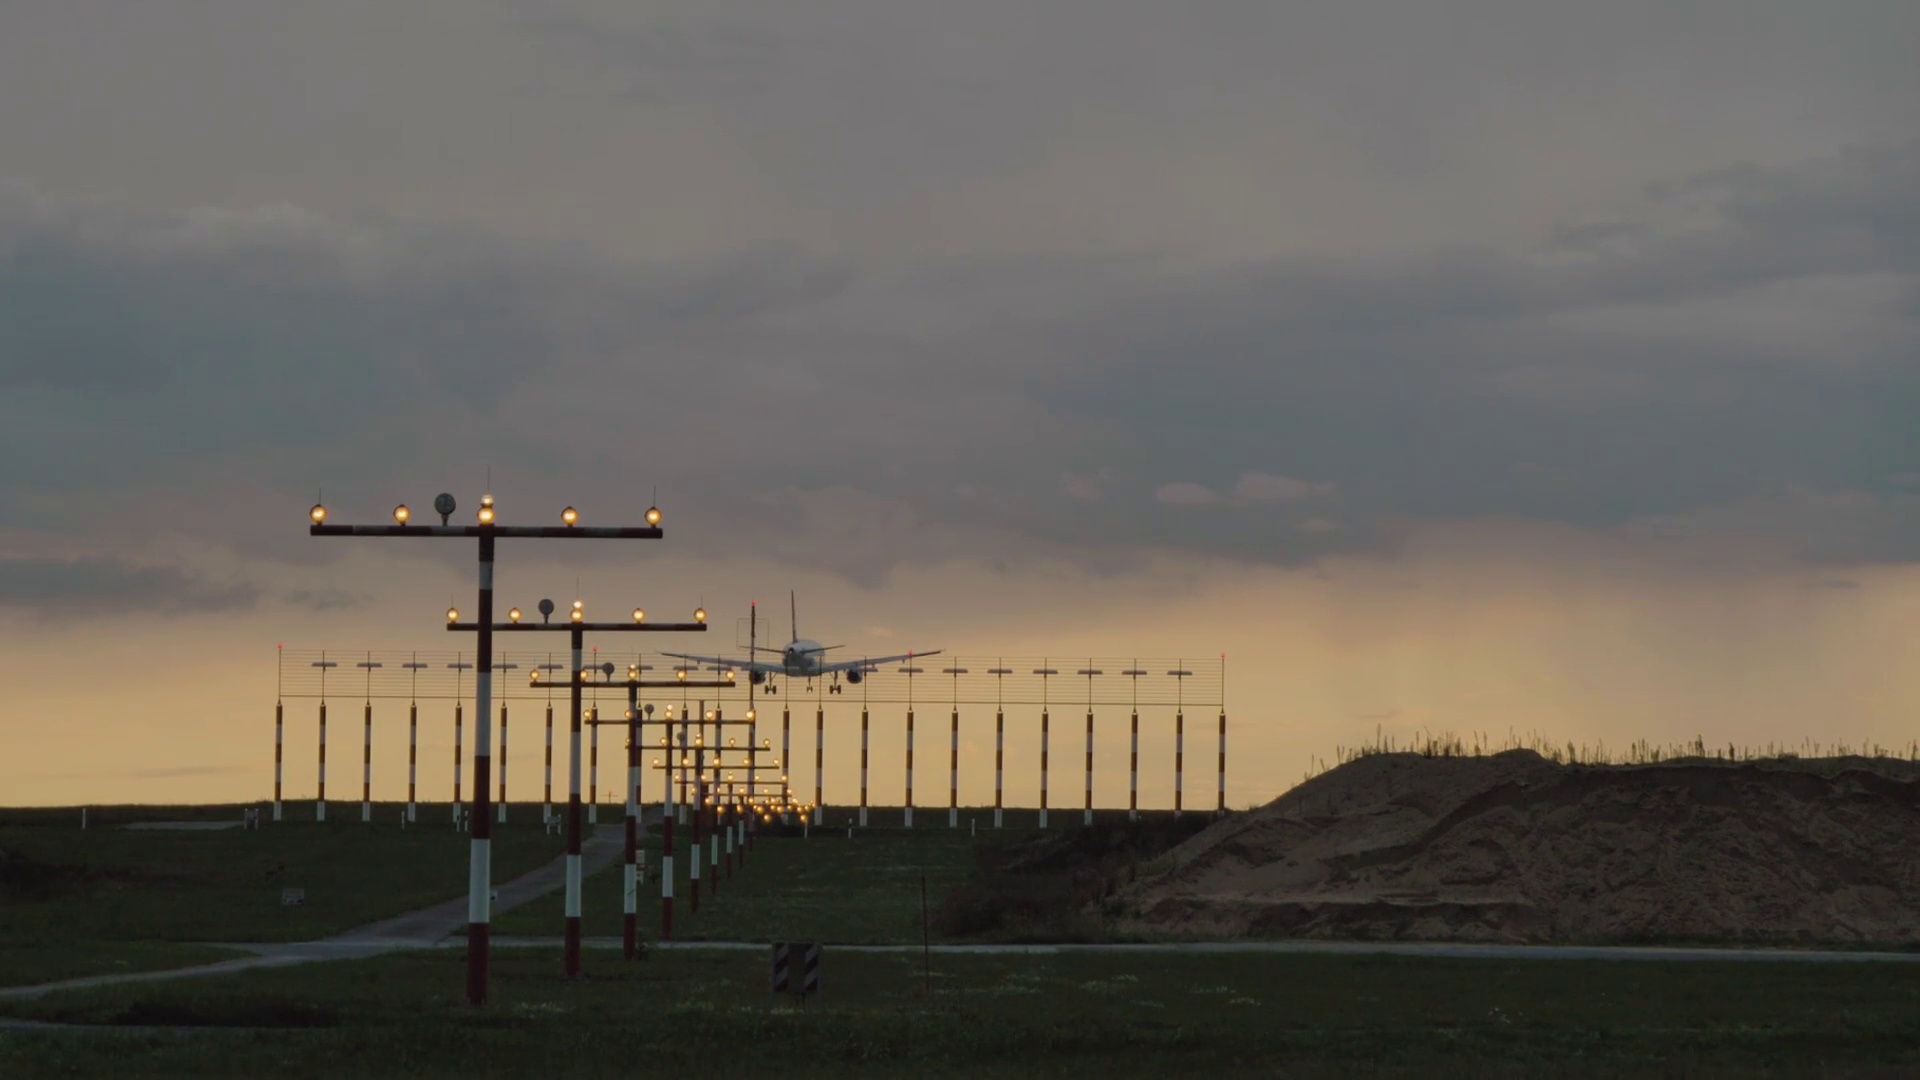plane: (659, 589, 942, 694)
